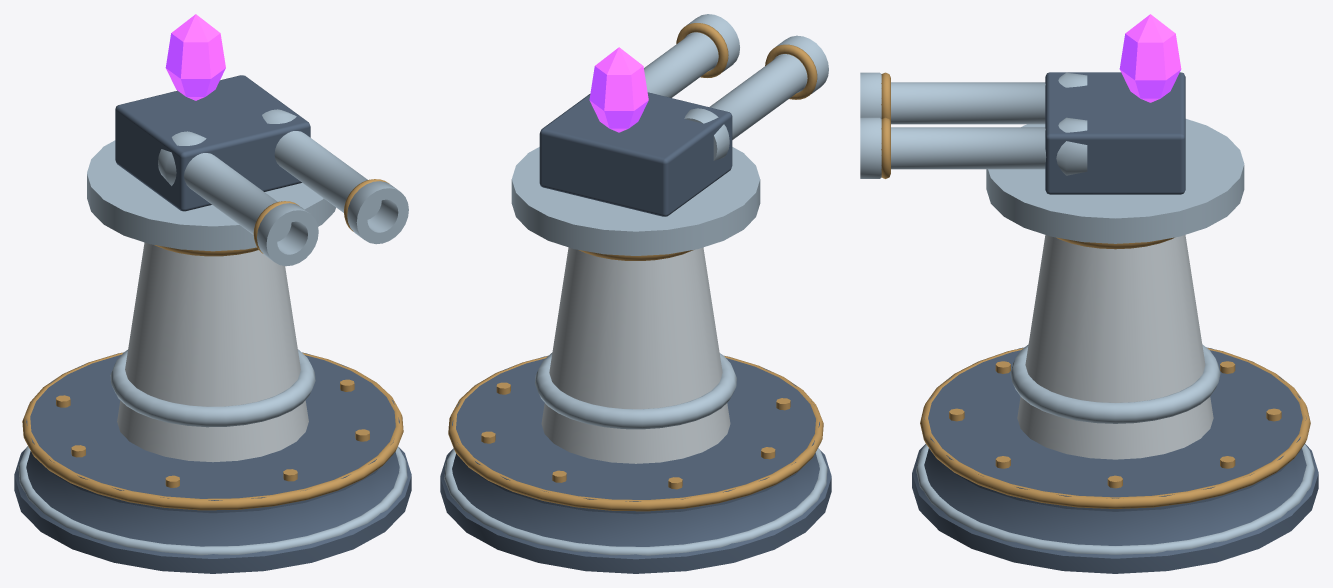
Rendered from moonsteel-convergence-twin-bolt-bastion-49fa28f5__18155.glb.
3 views of the same model, side by side, from view 1: azimuth 30°, elevation 25°; view 2: azimuth 150°, elevation 25°; view 3: azimuth 270°, elevation 25° (orthographic). The views are drawn at different scales.
Visible parts, largest first — view 1: twin-bolt-bastion, turret-silver, turret-slate, turret-gold; view 2: twin-bolt-bastion, turret-silver, turret-slate, turret-gold; view 3: twin-bolt-bastion, turret-silver, turret-slate, turret-gold.
Part boxes in pixels (x1=…): twin-bolt-bastion: x1=14, y1=14, x2=411, y2=573; turret-silver: x1=87, y1=109, x2=408, y2=266; turret-slate: x1=115, y1=75, x2=310, y2=211; turret-gold: x1=253, y1=179, x2=389, y2=253; twin-bolt-bastion: x1=440, y1=47, x2=831, y2=573; turret-silver: x1=511, y1=14, x2=828, y2=255; turret-slate: x1=539, y1=92, x2=732, y2=216; turret-gold: x1=676, y1=23, x2=817, y2=99; twin-bolt-bastion: x1=912, y1=14, x2=1318, y2=573; turret-silver: x1=860, y1=72, x2=1244, y2=243; turret-slate: x1=1045, y1=72, x2=1185, y2=194; turret-gold: x1=881, y1=72, x2=890, y2=178.
Bounding box in the file's own units: 2.9 × 3.73 × 3.27.
